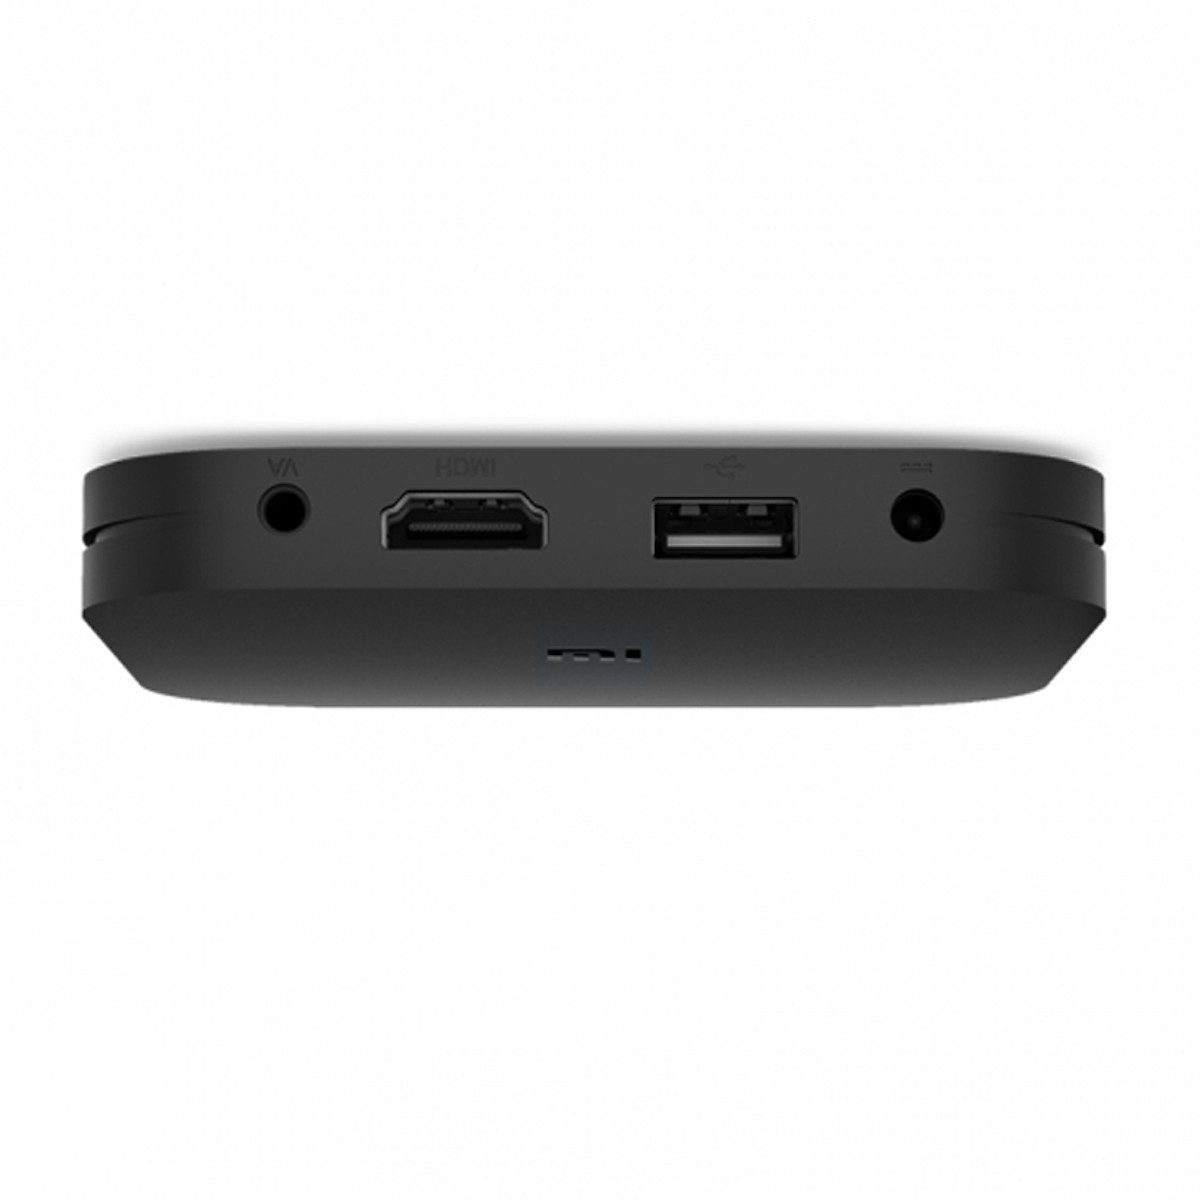Xiaomi: (452, 579, 699, 696)
